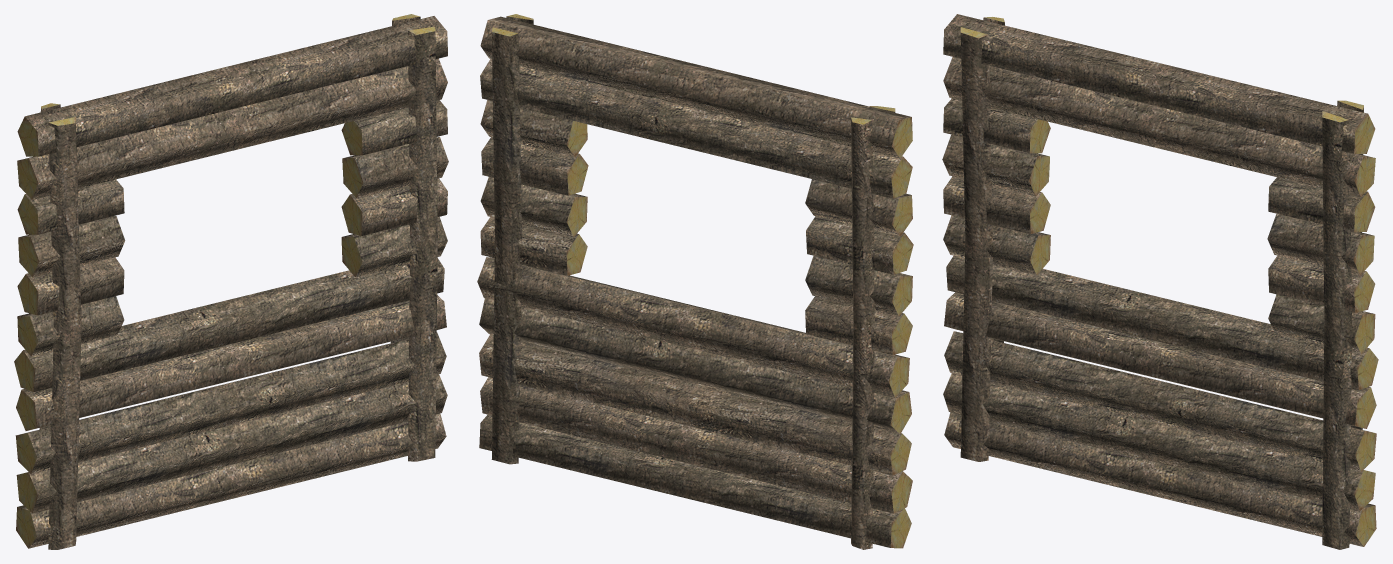
Rendered from construction_wood_wall_window_mesh.fbx.
The picture shows the model from 3 angles, left to right: view 1: azimuth 30°, elevation 25°; view 2: azimuth 150°, elevation 25°; view 3: azimuth 330°, elevation 25°; orthographic projection.
Parts seen in each view (by area): view 1: construction_wood_wall_window_mesh; view 2: construction_wood_wall_window_mesh; view 3: construction_wood_wall_window_mesh.
Part boxes in pixels (bbox=[...]): construction_wood_wall_window_mesh: bbox=[14, 14, 448, 549]; construction_wood_wall_window_mesh: bbox=[477, 14, 913, 549]; construction_wood_wall_window_mesh: bbox=[942, 14, 1378, 549].
Bounding box in the file's own units: 300 × 302 × 33.08.
